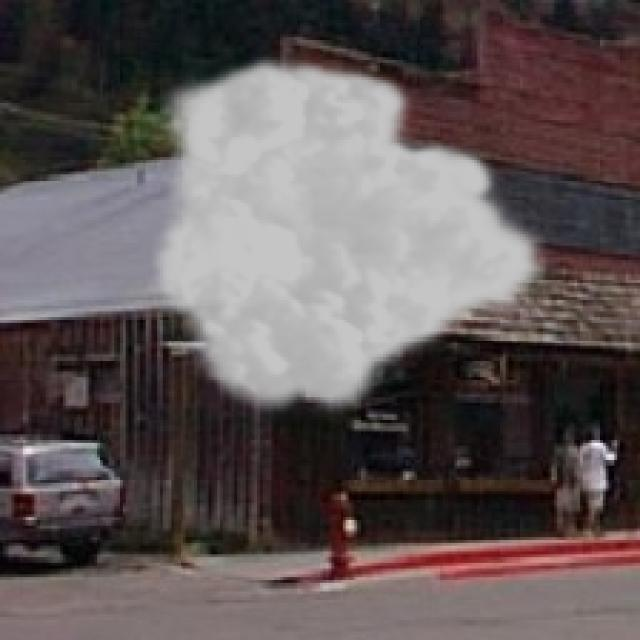Smoke: (148, 51, 554, 423)
